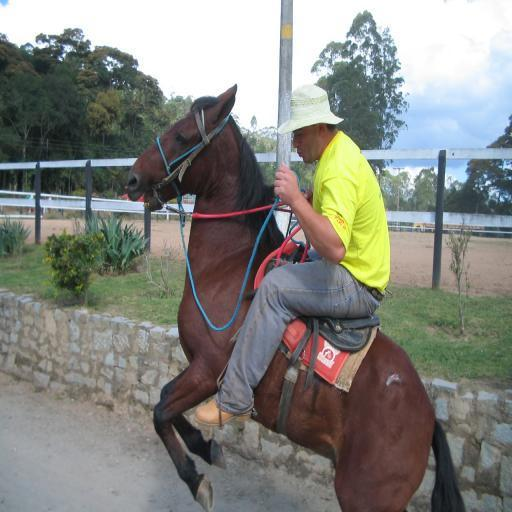horse: (126, 80, 465, 512)
